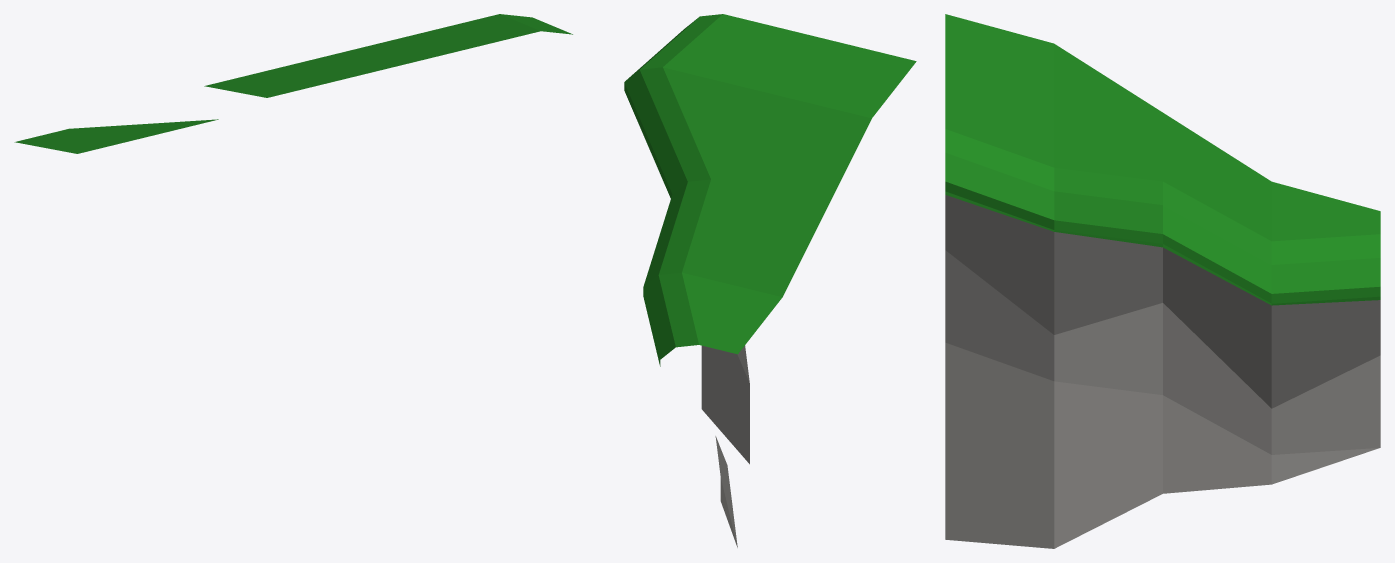
The model's file is Cliff_Terrain_Waterfall_Top.glb.
3 views of the same model, side by side, from view 1: azimuth 30°, elevation 25°; view 2: azimuth 150°, elevation 25°; view 3: azimuth 270°, elevation 25° (orthographic). The views are drawn at different scales.
Visible parts, largest first — view 1: Cliff_Terrain_Waterfall_Top; view 2: Cliff_Terrain_Waterfall_Top; view 3: Cliff_Terrain_Waterfall_Top.
Part boxes in pixels (x1,y1,x2,y2): Cliff_Terrain_Waterfall_Top: (14,14,572,153); Cliff_Terrain_Waterfall_Top: (624,14,916,547); Cliff_Terrain_Waterfall_Top: (945,14,1380,548).
Size of the model in its own units: 1.6 by 2.2 by 2.
